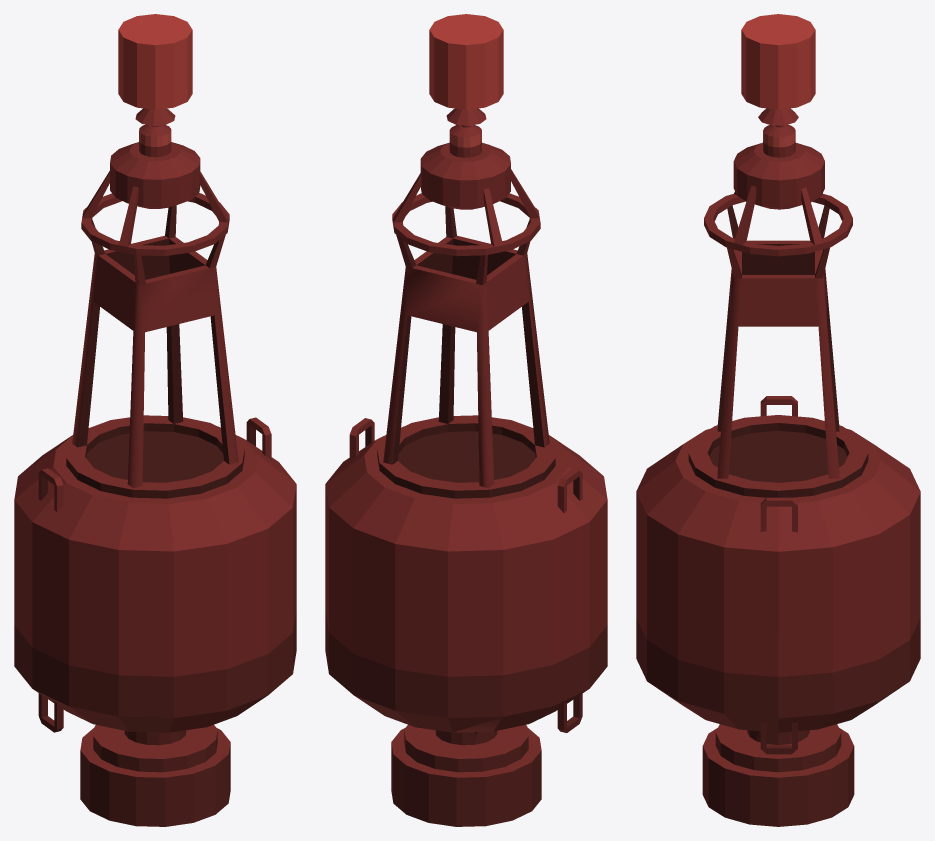
File: a22_buoy_red.glb
3 renders of one model, left to right at view 1: azimuth 30°, elevation 25°; view 2: azimuth 150°, elevation 25°; view 3: azimuth 270°, elevation 25°, orthographic.
Parts seen in each view (by area): view 1: body; view 2: body; view 3: body.
Part boxes in pixels (bbox=[...]): body: bbox=[14, 14, 296, 826]; body: bbox=[325, 14, 607, 826]; body: bbox=[636, 14, 920, 826].
Size of the model in its own units: 1 by 2.97 by 1.
Materials: 2 (1 with a texture image).
